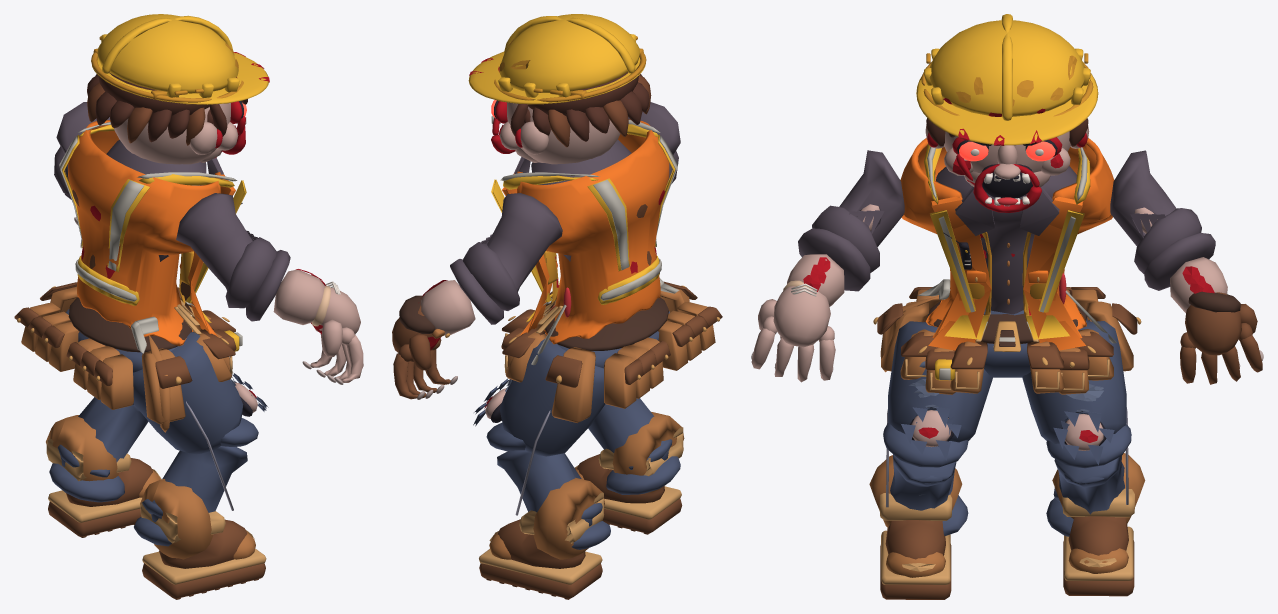
3 views of the same model, side by side, from view 1: azimuth 30°, elevation 25°; view 2: azimuth 150°, elevation 25°; view 3: azimuth 270°, elevation 25° (orthographic). The views are drawn at different scales.
Parts seen in each view (by area): view 1: torso__pal_orange, head__pal_schoolBusYellow, hip__pal_woodWarm, legR__pal_denim, shinR__pal_denim, shinL__pal_denim, armR__pal_asphalt, hip__pal_leatherShadow, head__pal_hairBrown, footR__pal_leatherShadow, footR__pal_woodWarm, foreArmR__pal_asphalt (+16 smaller); view 2: torso__pal_orange, head__pal_schoolBusYellow, hip__pal_woodWarm, legL__pal_denim, shinL__pal_denim, armL__pal_asphalt, hip__pal_leatherShadow, shinR__pal_denim, head__pal_hairBrown, footL__pal_woodWarm, footL__pal_leatherShadow, foreArmL__pal_asphalt (+17 smaller); view 3: head__pal_schoolBusYellow, torso__pal_orange, torso__pal_asphalt, hip__pal_woodWarm, handR__pal_infectedSkin, legL__pal_denim, legR__pal_denim, hip__pal_leatherShadow, shinR__pal_denim, shinL__pal_denim, handL__pal_leatherShadow, torso__pal_schoolBusYellow (+27 smaller).
Boxes of the visible parts, x1,y1,x2,y2 form: torso__pal_orange: [68, 120, 235, 346]; head__pal_schoolBusYellow: [92, 14, 268, 104]; hip__pal_woodWarm: [21, 286, 232, 432]; legR__pal_denim: [133, 331, 268, 454]; shinR__pal_denim: [134, 418, 258, 546]; shinL__pal_denim: [49, 397, 148, 502]; armR__pal_asphalt: [176, 193, 258, 290]; hip__pal_leatherShadow: [14, 282, 236, 388]; head__pal_hairBrown: [87, 72, 247, 142]; footR__pal_leatherShadow: [142, 519, 265, 599]; footR__pal_woodWarm: [140, 479, 255, 559]; foreArmR__pal_asphalt: [225, 237, 290, 321]; torso__pal_orange: [502, 119, 669, 344]; head__pal_schoolBusYellow: [468, 14, 645, 104]; hip__pal_woodWarm: [505, 288, 715, 422]; legL__pal_denim: [473, 333, 605, 456]; shinL__pal_denim: [486, 423, 610, 549]; armL__pal_asphalt: [481, 193, 562, 292]; hip__pal_leatherShadow: [501, 281, 722, 387]; shinR__pal_denim: [588, 398, 680, 494]; head__pal_hairBrown: [510, 72, 649, 141]; footL__pal_woodWarm: [489, 477, 604, 559]; footL__pal_leatherShadow: [479, 519, 602, 599]; foreArmL__pal_asphalt: [450, 242, 519, 324]; head__pal_schoolBusYellow: [916, 14, 1098, 145]; torso__pal_orange: [900, 138, 1114, 350]; torso__pal_asphalt: [936, 166, 1076, 314]; hip__pal_woodWarm: [880, 289, 1133, 394]; handR__pal_infectedSkin: [751, 286, 835, 382]; legL__pal_denim: [1022, 320, 1126, 465]; legR__pal_denim: [888, 321, 992, 460]; hip__pal_leatherShadow: [877, 287, 1137, 370]; shinR__pal_denim: [883, 423, 968, 535]; shinL__pal_denim: [1046, 424, 1131, 536]; handL__pal_leatherShadow: [1180, 292, 1262, 384]; torso__pal_schoolBusYellow: [924, 143, 1090, 339].
Size of what is drawn, in the model's own units: 0.5514 by 1.38 by 1.15.
